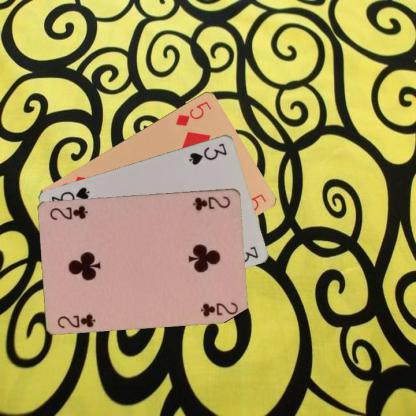2c: (190, 193, 232, 211), (55, 312, 96, 330)
3s: (186, 140, 228, 166)
5d: (172, 98, 212, 127)
